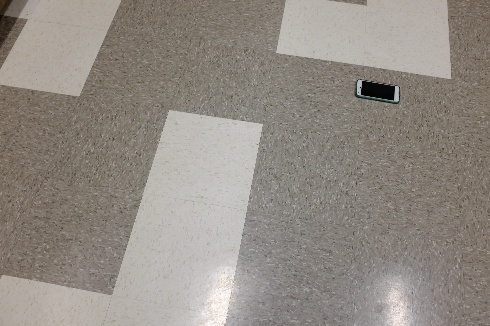phone: (351, 74, 400, 106)
